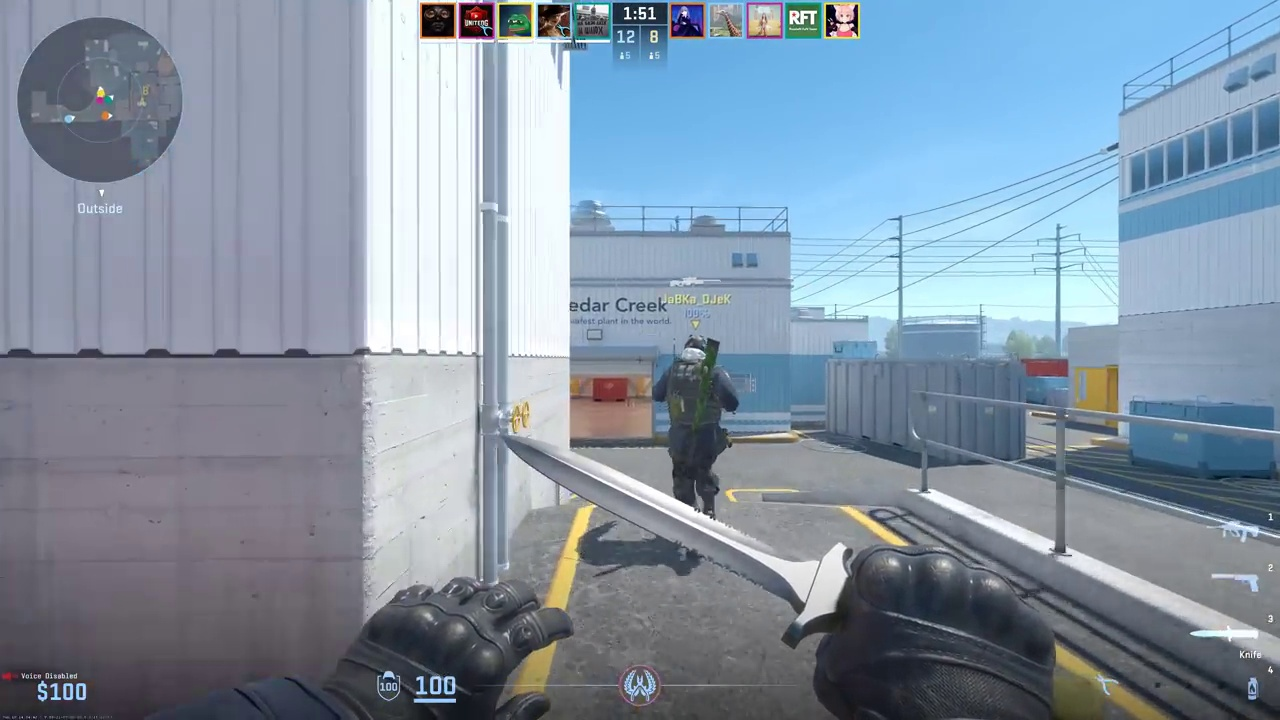CT: (669, 335, 729, 518)
